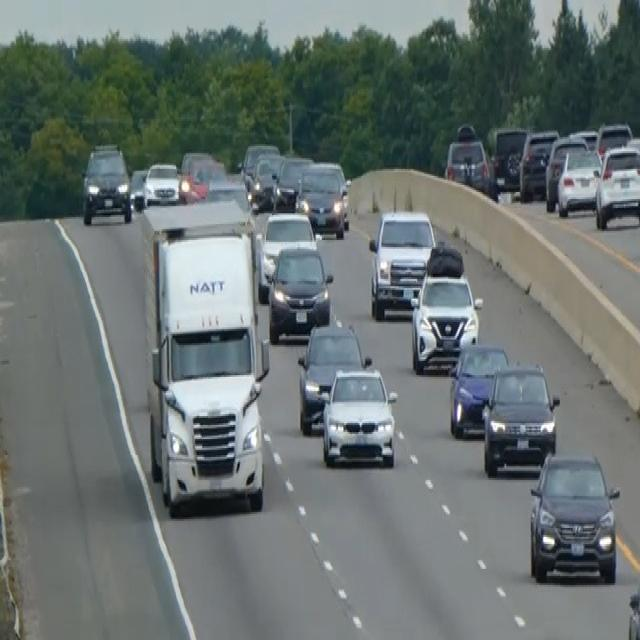car: (527, 448, 620, 585), (481, 359, 559, 477), (296, 318, 368, 434), (320, 361, 398, 467), (367, 206, 436, 320), (410, 271, 482, 374), (267, 240, 333, 343), (447, 340, 509, 438), (255, 208, 316, 300), (81, 140, 132, 224), (295, 160, 348, 238), (594, 143, 639, 230), (443, 121, 491, 195), (544, 133, 588, 210), (556, 146, 601, 217), (518, 128, 558, 201), (178, 148, 224, 202), (492, 124, 528, 192), (272, 153, 313, 210), (247, 151, 284, 210), (239, 140, 279, 188), (594, 119, 633, 162), (143, 160, 180, 204), (129, 165, 147, 210)
lorry: (139, 199, 271, 516)
